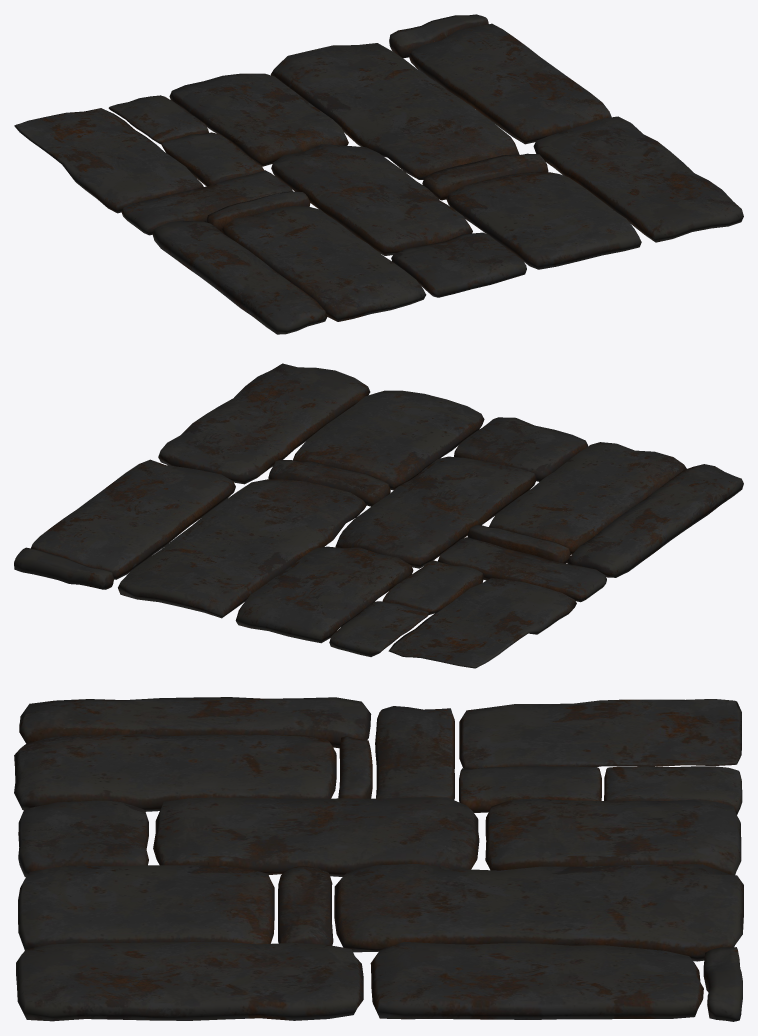
File: patika.fbx
3 views of the same model, one above another, from view 1: azimuth 30°, elevation 25°; view 2: azimuth 150°, elevation 25°; view 3: azimuth 270°, elevation 25° (orthographic). The views are drawn at different scales.
Visible parts, largest first — view 1: DefaultObject; view 2: DefaultObject; view 3: DefaultObject.
Part boxes in pixels (x1=…): DefaultObject: x1=14, y1=14, x2=743, y2=334; DefaultObject: x1=14, y1=363, x2=743, y2=668; DefaultObject: x1=14, y1=697, x2=743, y2=1021.
Size of the model in its own units: 2 by 0.0944 by 2.
